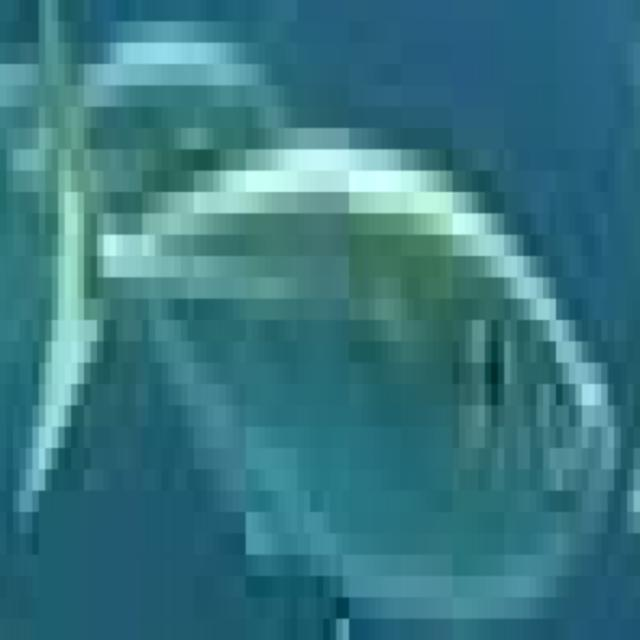fish: (6, 21, 640, 640)
